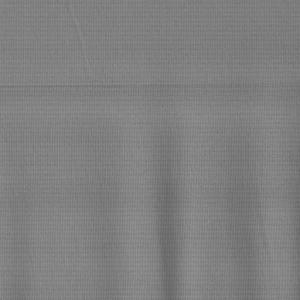Wrinkle: (90, 115, 300, 300), (1, 167, 40, 300), (60, 1, 97, 78)
